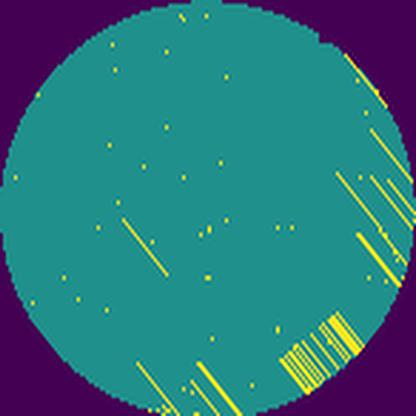Scratch: (333, 166, 409, 298), (272, 307, 370, 400), (117, 210, 173, 284), (191, 352, 244, 416), (365, 172, 416, 234), (364, 126, 412, 187), (134, 358, 181, 416)
